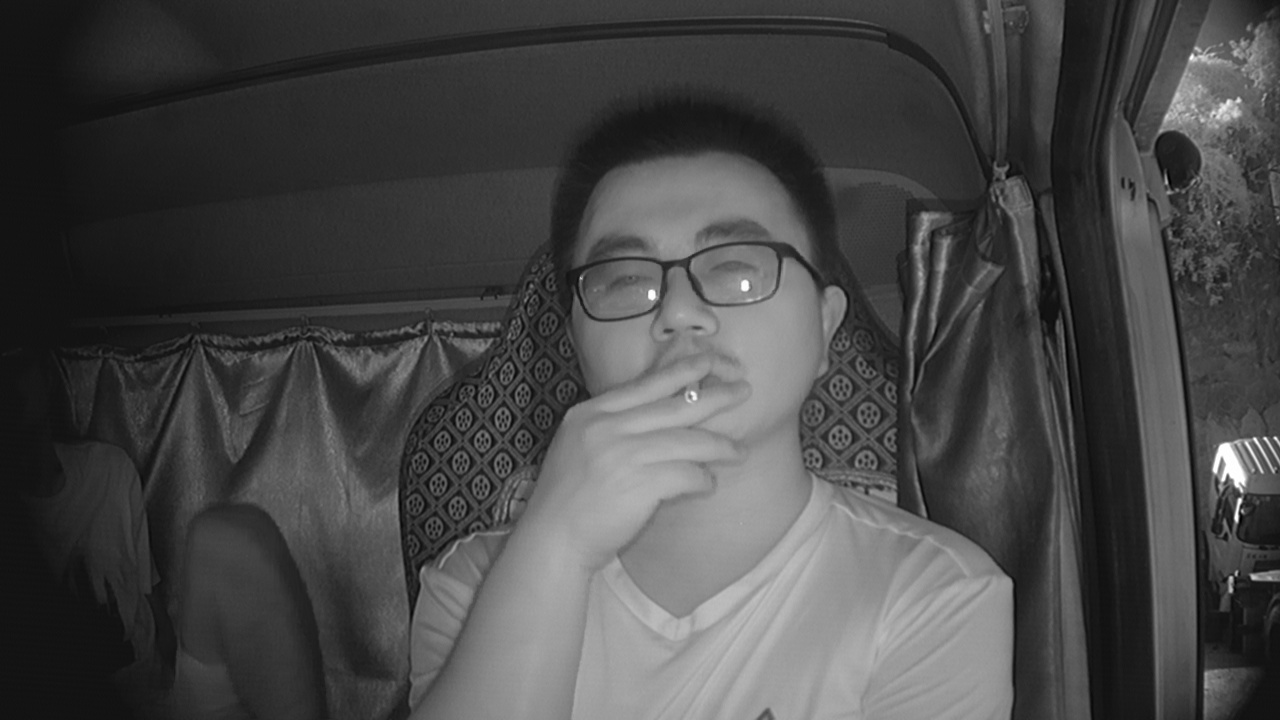hand: (531, 354, 761, 528)
